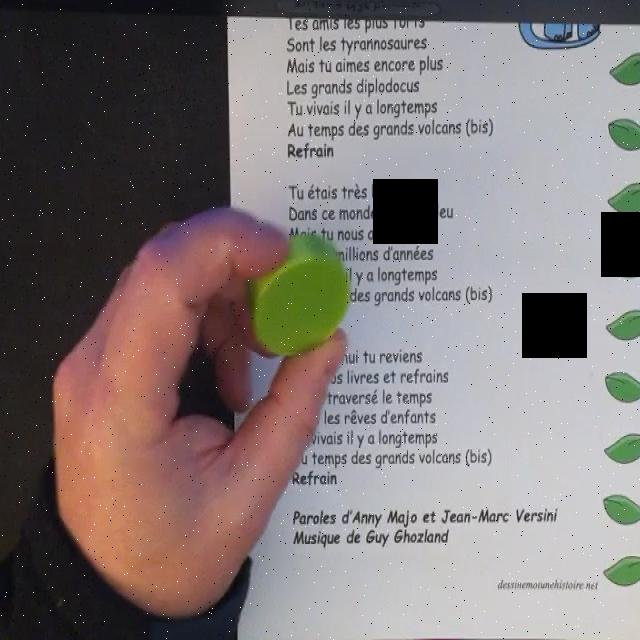round: (249, 235, 351, 358)
